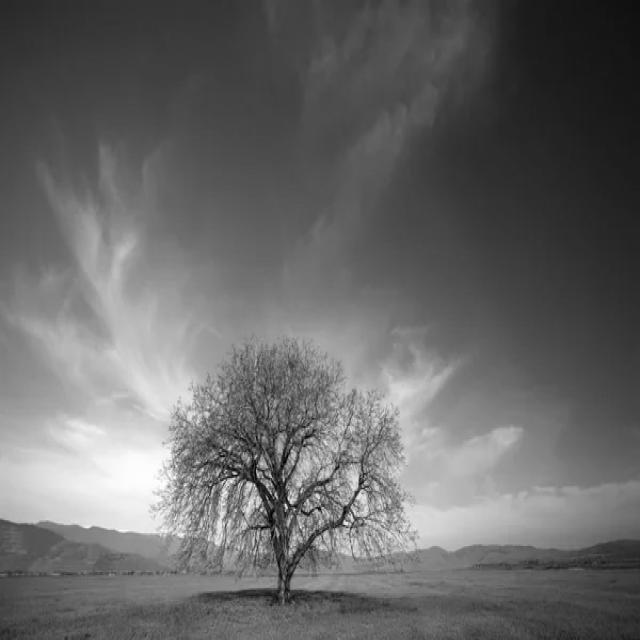Tree: (154, 339, 412, 605)
